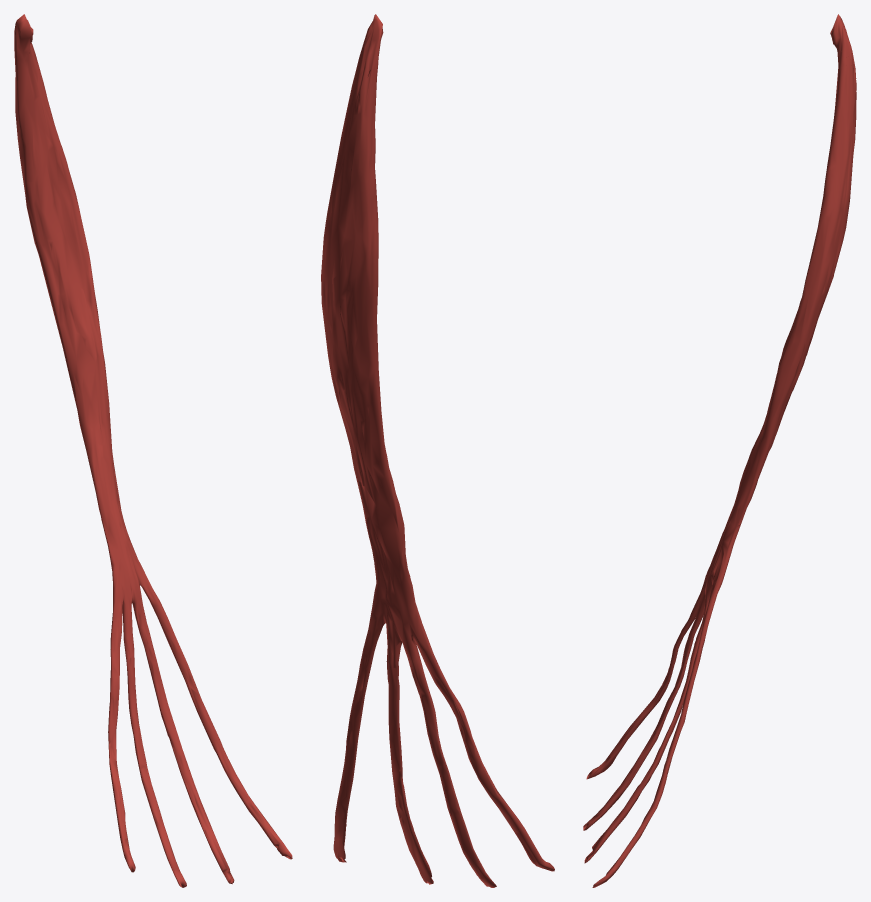
File: musculos-extensor-digitorum-l.glb
3 renders of one model, left to right at view 1: azimuth 30°, elevation 25°; view 2: azimuth 150°, elevation 25°; view 3: azimuth 270°, elevation 25°, orthographic. The views are drawn at different scales.
Visible parts, largest first — view 1: Extensor digitorum.l; view 2: Extensor digitorum.l; view 3: Extensor digitorum.l.
Boxes of the visible parts, x1,y1,x2,y2 form: Extensor digitorum.l: [14, 14, 292, 887]; Extensor digitorum.l: [321, 14, 554, 887]; Extensor digitorum.l: [583, 14, 856, 887].
Size of the model in its own units: 0.0852 by 0.3946 by 0.121.
